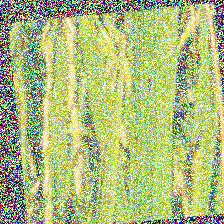Bacterial_Leaf_Blight: (142, 71, 159, 95)
